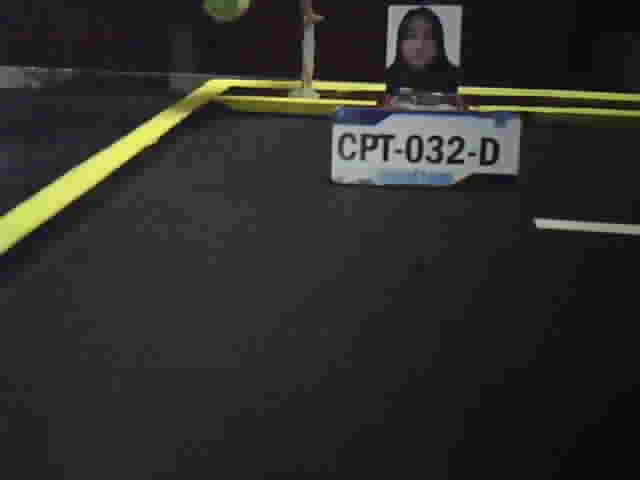PLACA: (327, 107, 524, 197)
ROSTRO: (387, 5, 460, 90)
